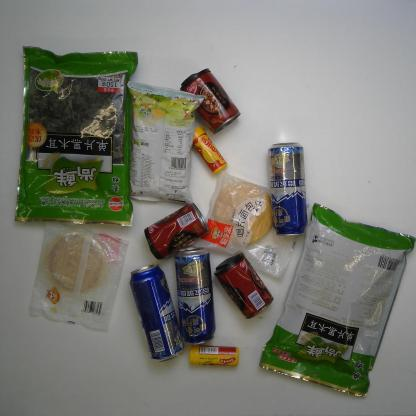Alcohol: (127, 262, 186, 364), (170, 244, 219, 347), (267, 140, 310, 238)
Candy: (189, 123, 229, 176), (188, 344, 240, 367)
Canned Food: (178, 66, 244, 136), (212, 250, 276, 320), (143, 200, 211, 263)
Dessert: (189, 164, 319, 284), (26, 216, 133, 336)
Dried Food: (255, 198, 416, 401), (12, 44, 140, 228)
Puffed Food: (121, 78, 209, 209)
